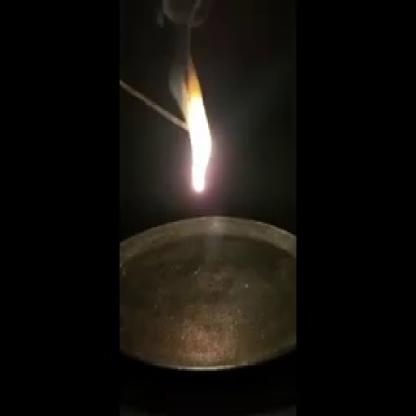fire: (170, 56, 219, 197)
